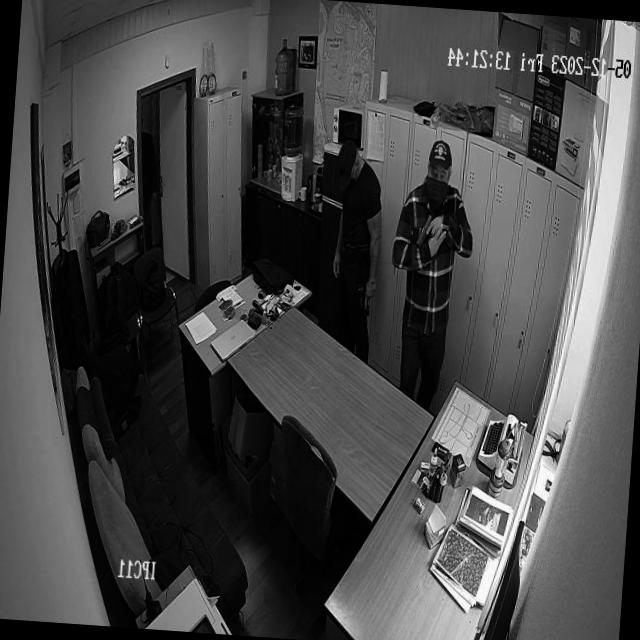gun: (414, 206, 432, 256), (354, 280, 374, 322)
person with a gun: (382, 131, 481, 373), (325, 134, 388, 338)
